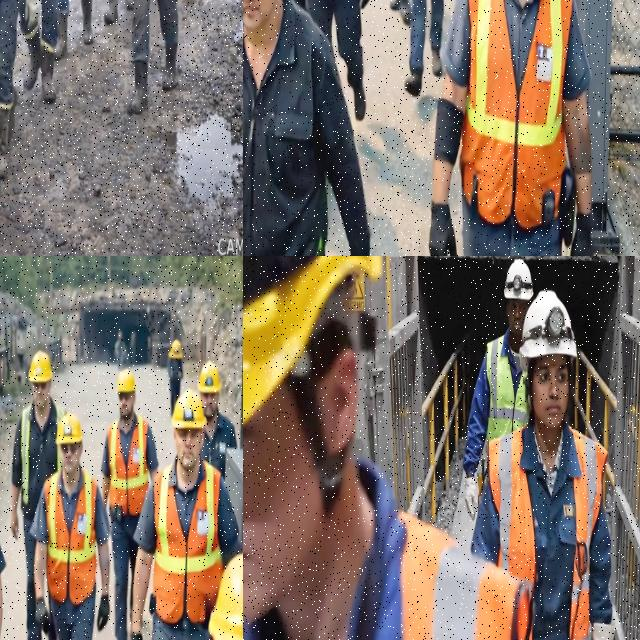Vest: (460, 0, 571, 228), (401, 514, 528, 639), (153, 462, 222, 623), (570, 429, 606, 639), (44, 469, 97, 604), (486, 336, 526, 446), (108, 416, 148, 515), (21, 405, 31, 504)
Worker: (243, 256, 528, 639), (471, 291, 614, 639), (429, 0, 592, 255), (243, 0, 369, 255), (131, 389, 240, 639), (463, 259, 533, 519), (31, 413, 109, 639), (101, 369, 158, 639), (11, 351, 64, 639), (295, 0, 369, 121), (198, 361, 237, 478), (20, 0, 58, 103), (0, 0, 20, 179), (209, 553, 242, 639), (128, 0, 150, 114), (405, 0, 426, 97), (56, 0, 69, 59), (390, 0, 410, 25), (0, 544, 5, 639), (104, 0, 118, 25)
helmet: (243, 256, 381, 423), (520, 291, 576, 371), (209, 553, 242, 639), (172, 389, 206, 428), (504, 259, 533, 300), (56, 413, 82, 444), (28, 351, 52, 382), (198, 361, 220, 393), (116, 368, 136, 394)
